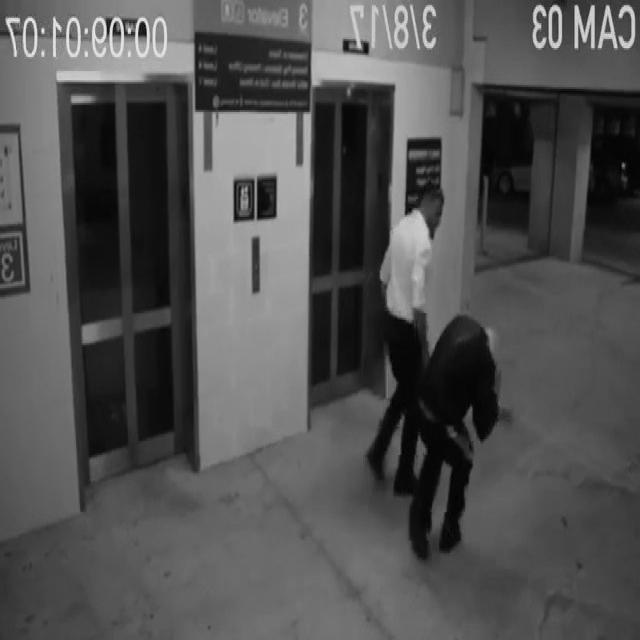fight: (365, 175, 503, 564)
